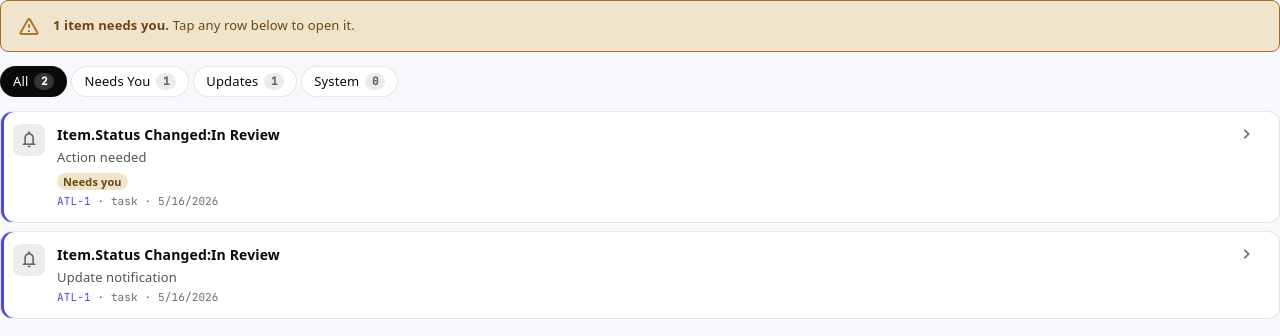
Scenario: InAppFeedTabContent › clicking "Updates" filter pill covers setFilter("update") (L121)
This screenshot has width=1280, height=336.
Click the text "Updates" at {"x": 232, "y": 81}, box [206,71,258,92]
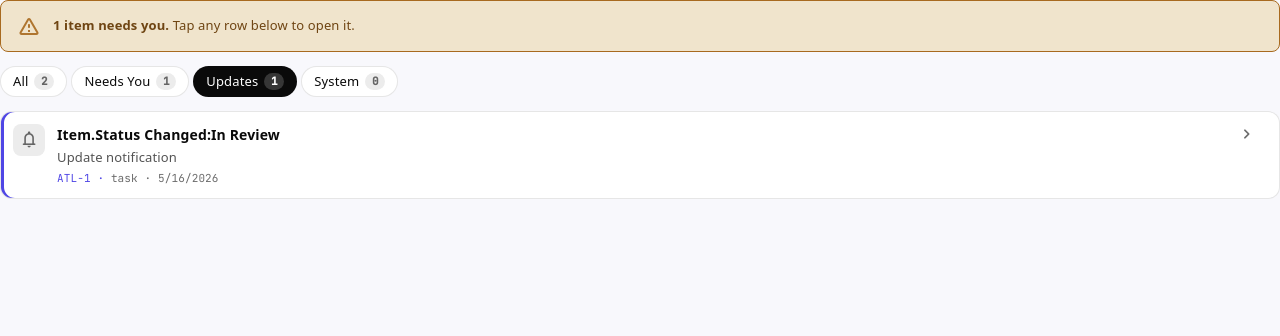
Expected: the text "Update notification" is shown, [57,148,177,166]
Result: the button "Action needed" is gone
